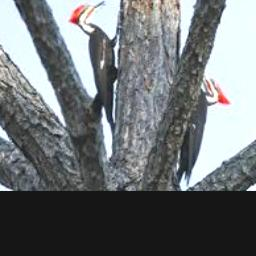Woodpecker: (70, 1, 123, 133), (177, 65, 231, 185)
